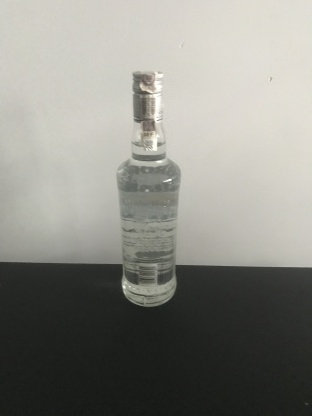nakretka: (130, 67, 164, 123)
